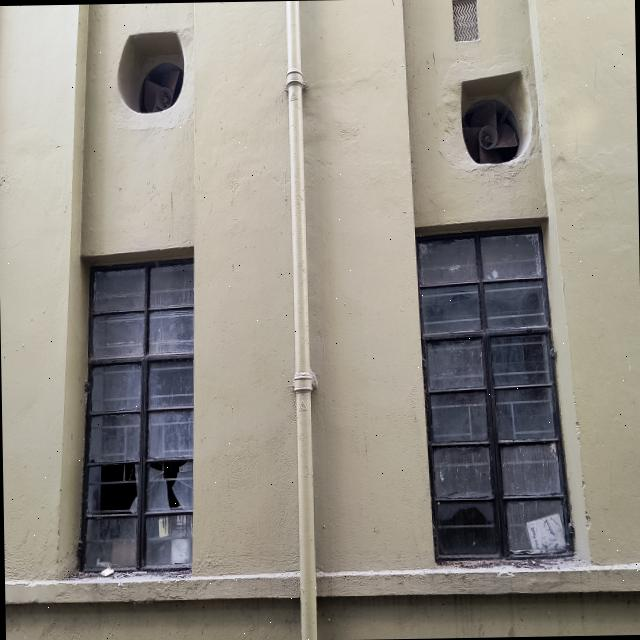Broken window pane: (78, 243, 193, 572)
